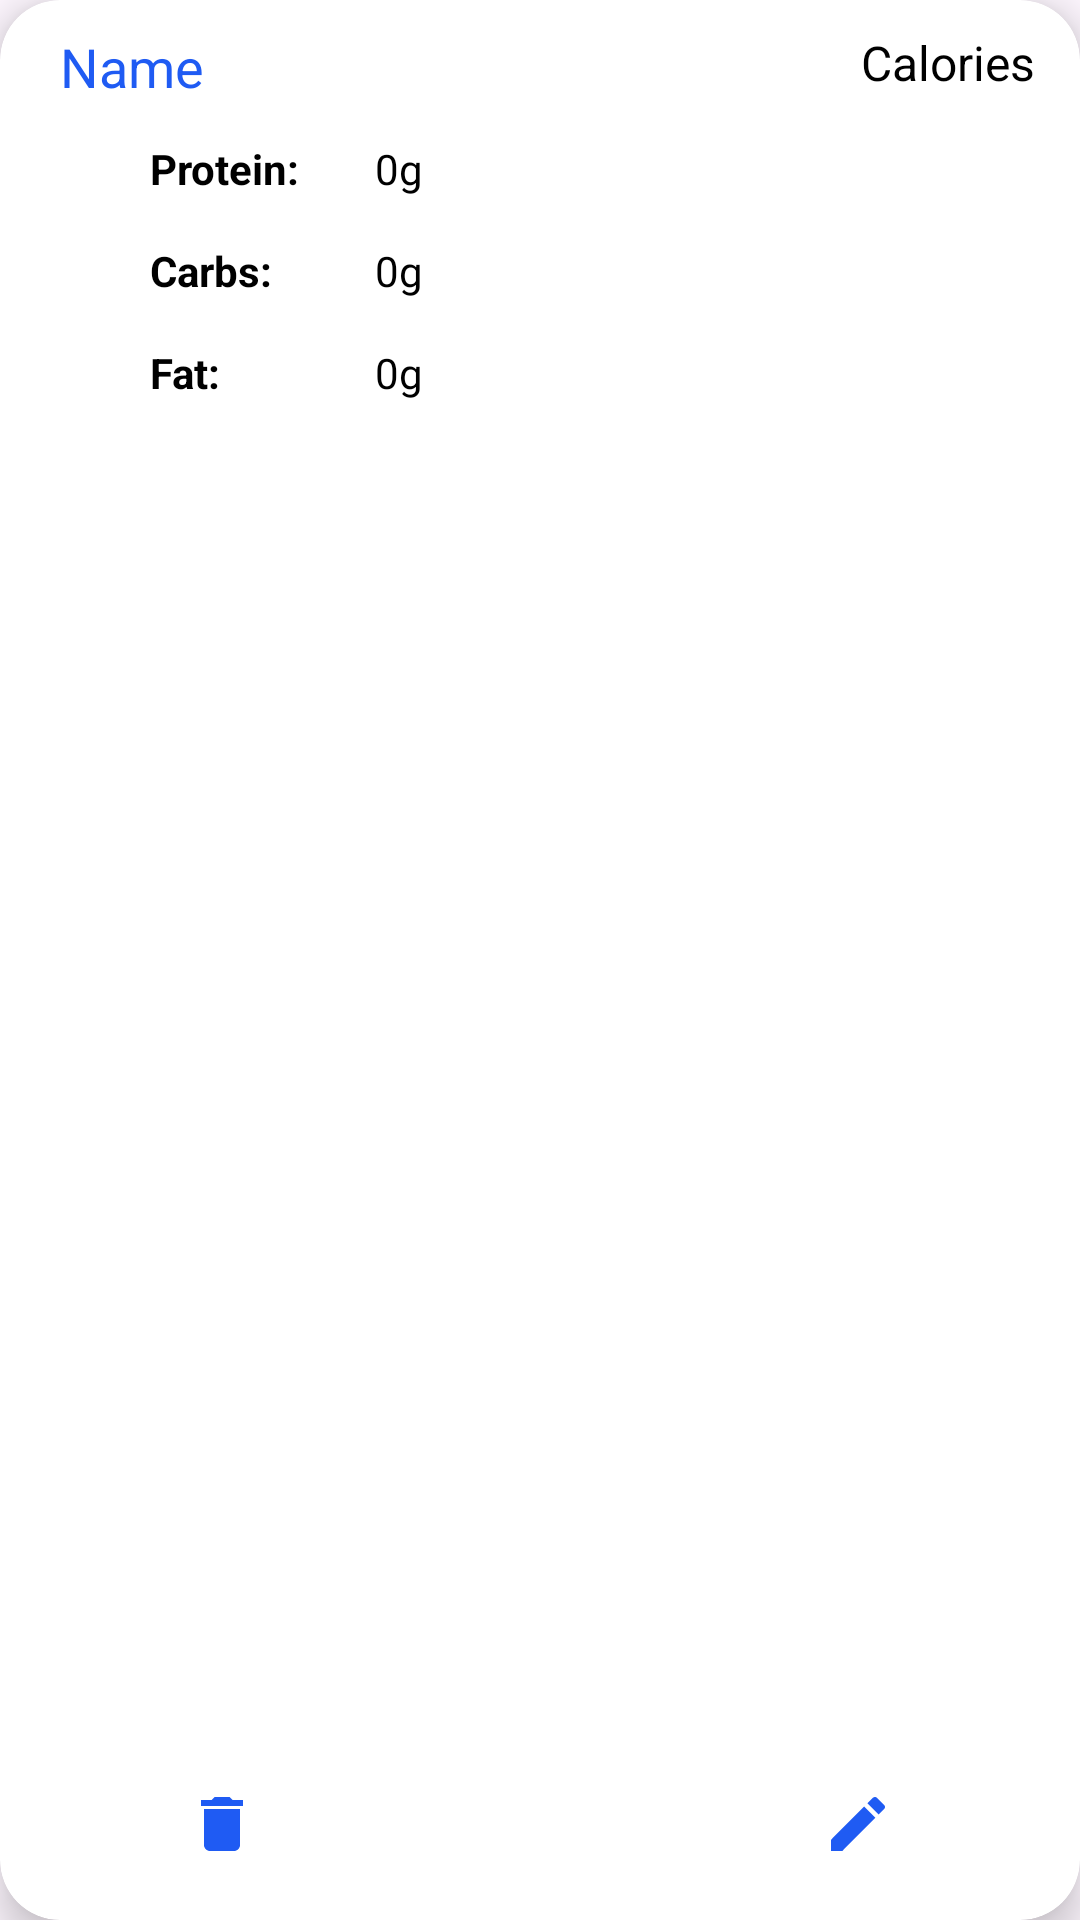

Named icons in this screenshot (1080 x 1920) and their centers, (x,y):
Delete Product: (222,1824)
Edit Product: (858,1824)
